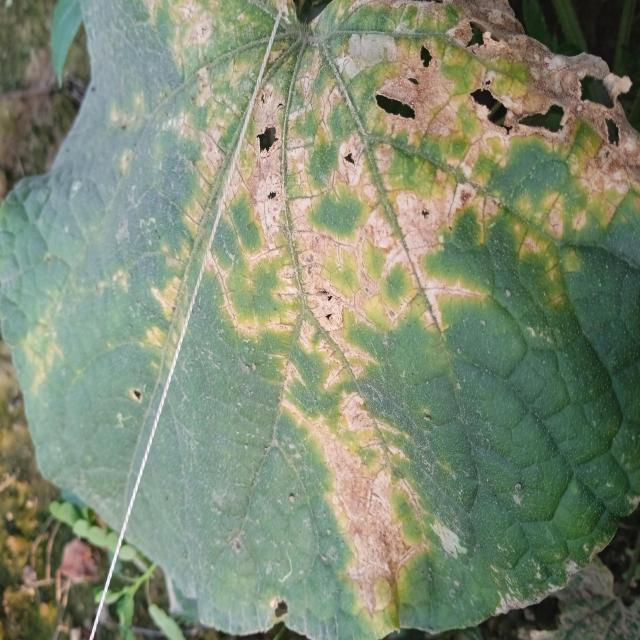cucumber_anthracnose: (118, 14, 634, 618)
